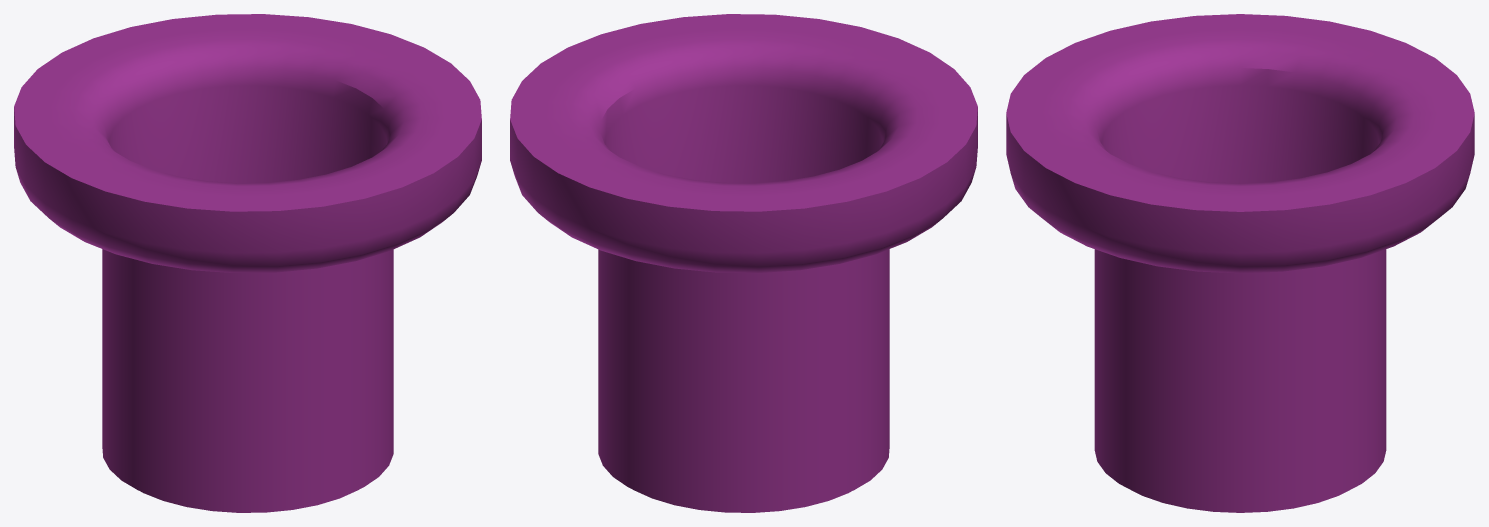
The model's file is sombrero_blender.fbx.
The picture shows the model from 3 angles, left to right: view 1: azimuth 30°, elevation 25°; view 2: azimuth 150°, elevation 25°; view 3: azimuth 270°, elevation 25°; orthographic projection.
Visible parts, largest first — view 1: Circle; view 2: Circle; view 3: Circle.
Part boxes in pixels (left/top/right/bottom): Circle: left=14, top=14, right=481, bottom=512; Circle: left=510, top=14, right=977, bottom=512; Circle: left=1006, top=14, right=1474, bottom=512.
Bounding box in the file's own units: 321 × 258 × 321.
